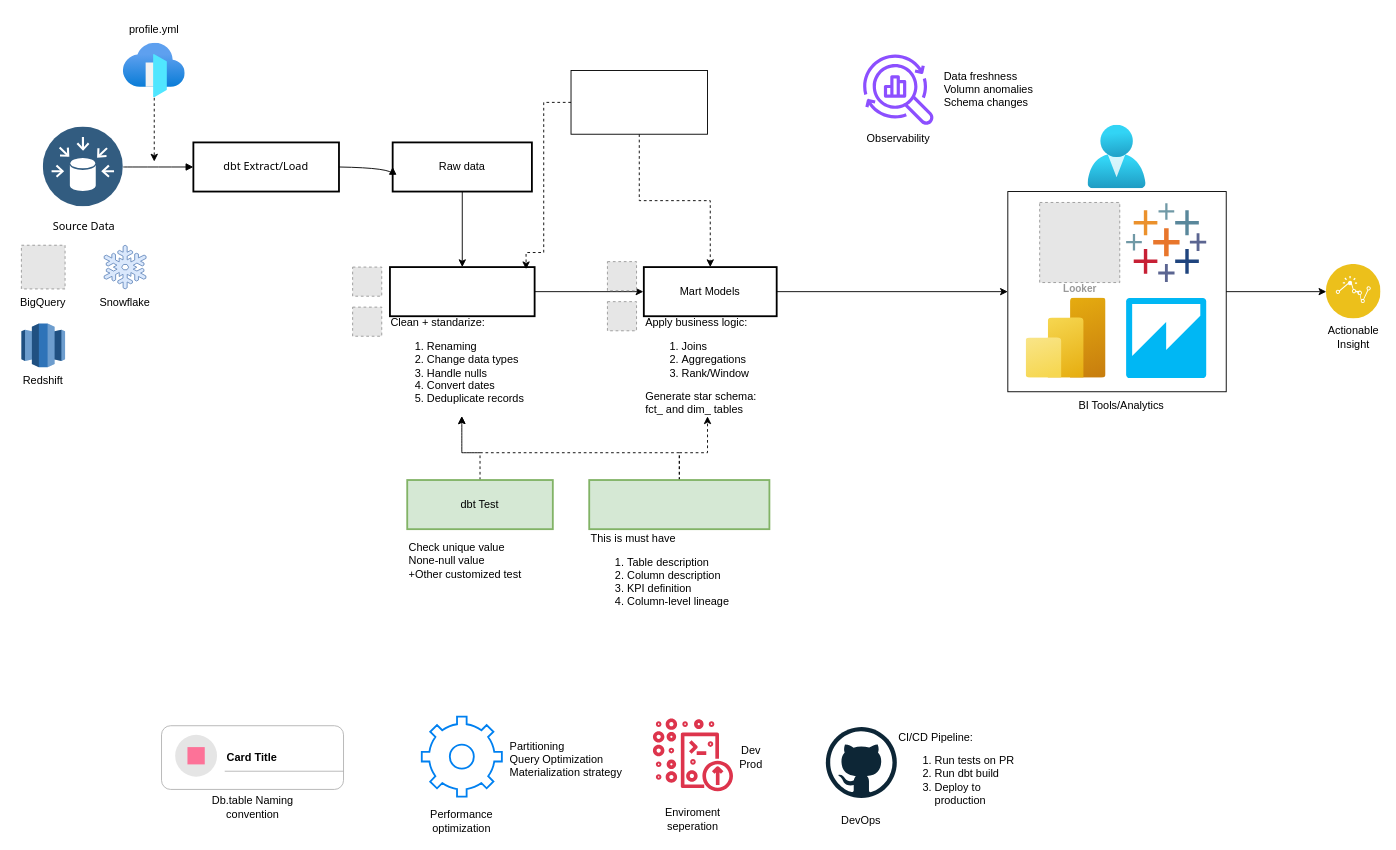
Image size: 1396x850. Some labels were removed from this diagram. Grey dashed boxes stand in for pictures. The shapes that lost their labels are listed below. From the top down, each one's box as (x1, y1, x2, y2) in pixels, then its label:
(570, 70, 708, 134): Macro (Reusable formula)
(389, 266, 535, 317): Staging Models
(588, 479, 770, 530): dbt Documentation
